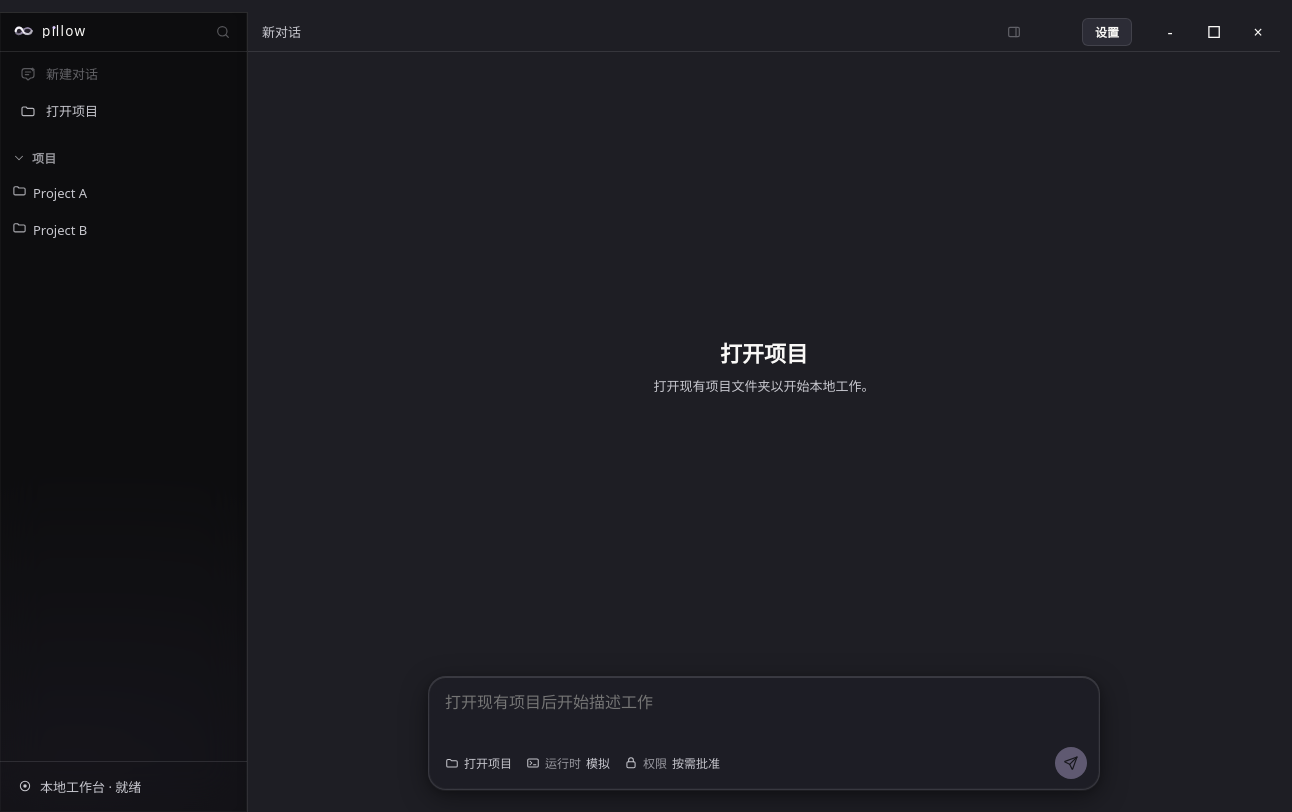
Test: first-send createConversation project scope race › isolates deferred create completion: no B draft restore, send error, timeline, or cancel
Click the button "Project A" at (124, 192), box [4, 176, 243, 209]
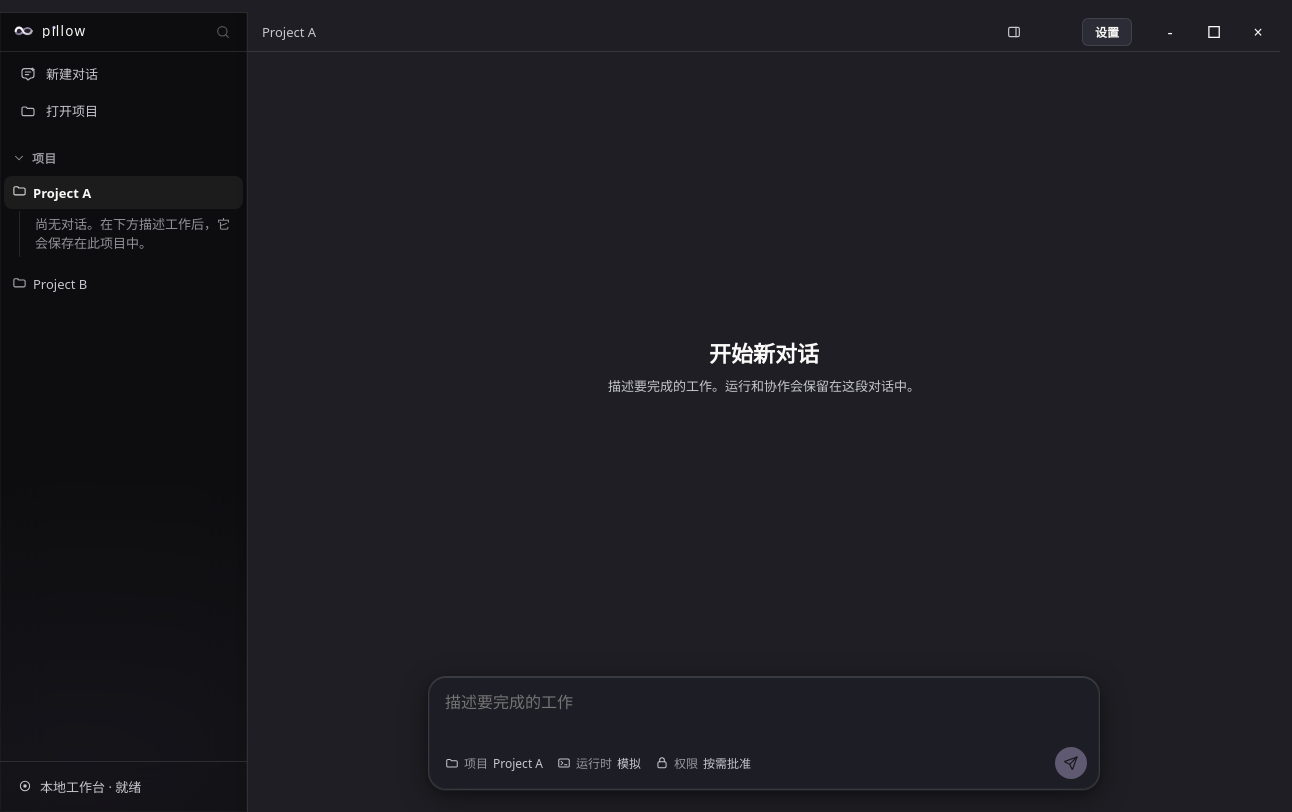
Type "stale draft prompt" into the text box named "工作请求" at (764, 713), box [441, 687, 1087, 739]
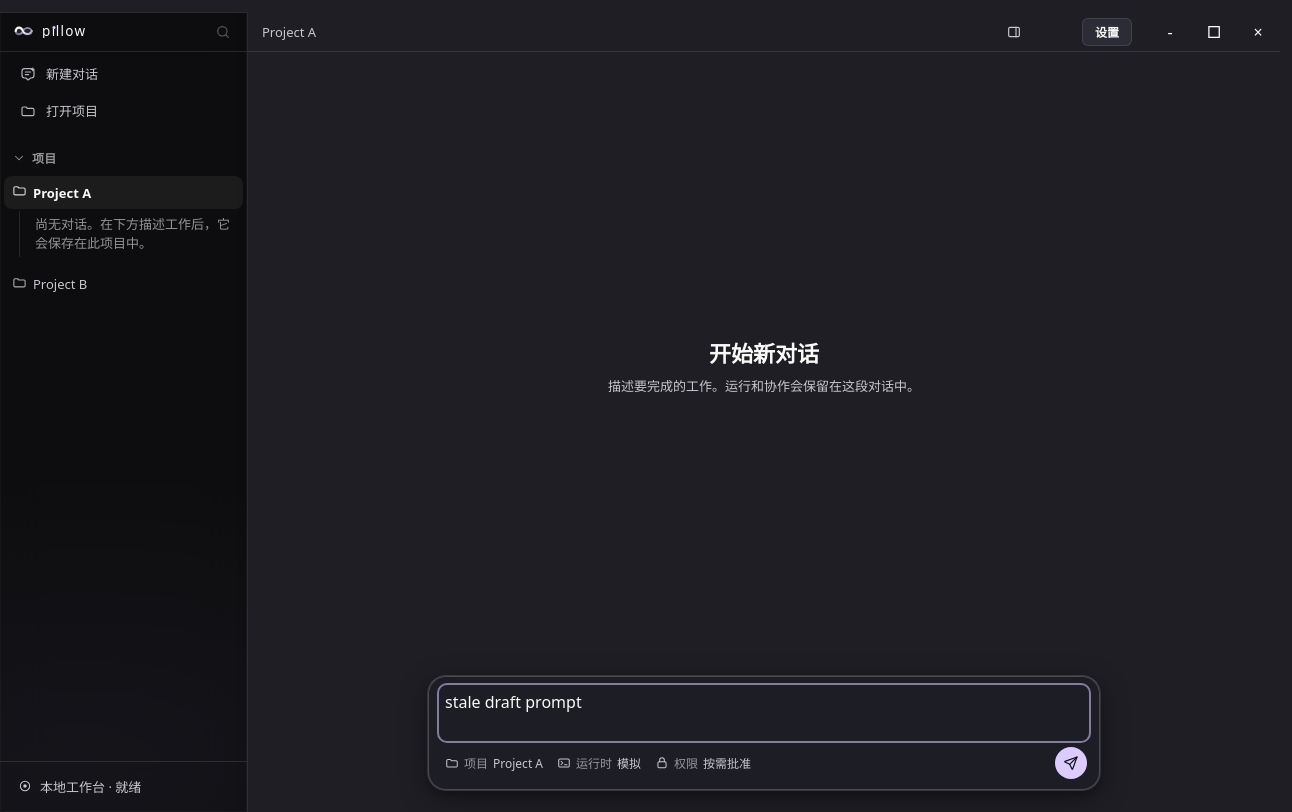
Click the button with test id "composer-send" at (1071, 763), box [1055, 747, 1087, 779]
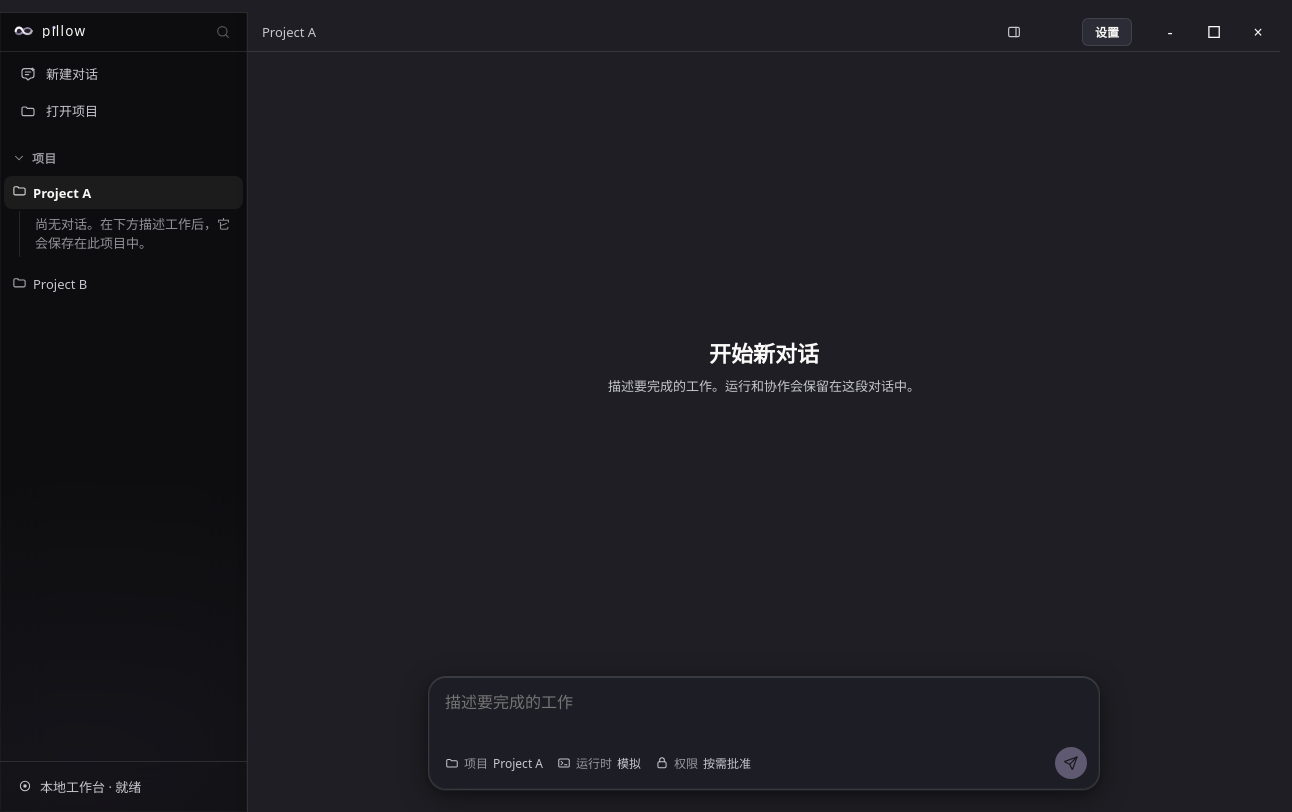
Expected: the text box named "工作请求" is empty, [441, 687, 1087, 739]
Click the button "Project B" at (124, 284), box [4, 268, 243, 301]
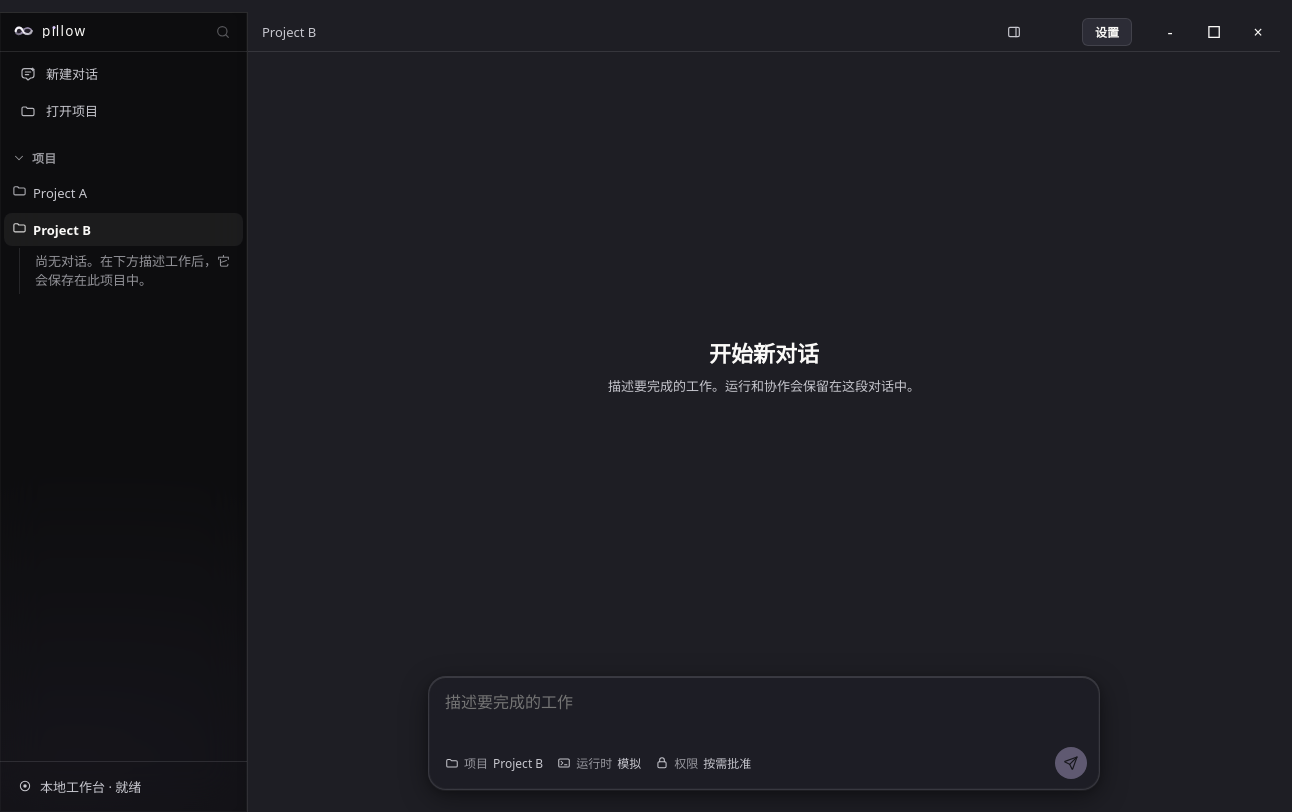
Expected: the text box named "工作请求" is empty, [441, 687, 1087, 739]
Expected: the heading with test id "active-project-name" reads "Project B", [262, 22, 316, 40]
